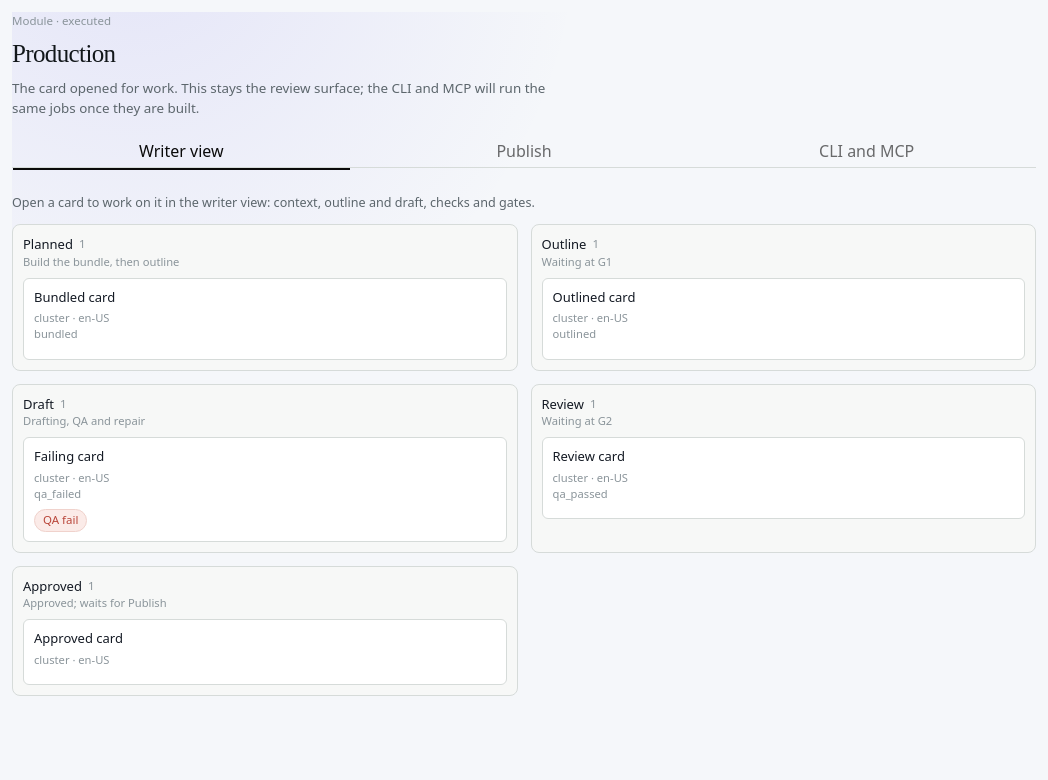
Test: V3 Production module › shows approved cards on Publish without any publishing action
Check: the element named "Production work queue" is shown, box top-left (12, 224), bottom-right (1036, 696)
Check: the link "Bundled card" is shown, box top-left (34, 288), bottom-right (115, 306)
Click the tab "Publish". click: (524,152)
box: top-left (355, 136), bottom-right (693, 166)
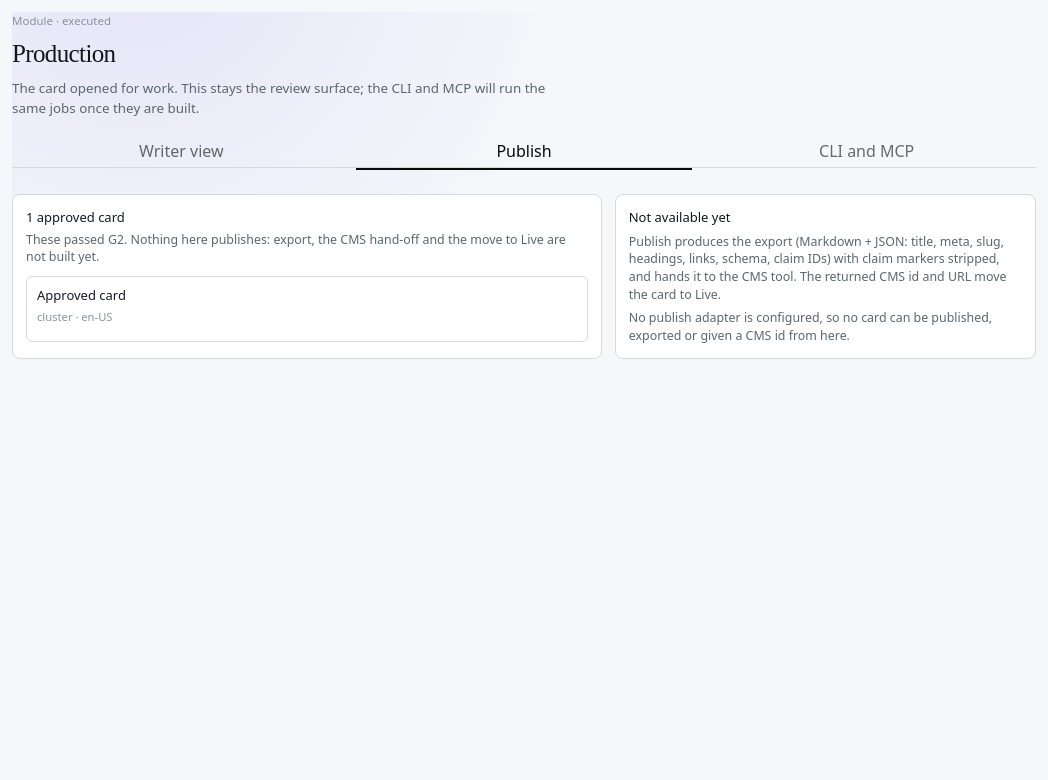
Check: the heading "1 approved card" is shown, box top-left (26, 208), bottom-right (125, 226)
Check: the link "Review card" is gone
Check: the text "Nothing here publishes" is shown, box top-left (26, 230), bottom-right (566, 265)
